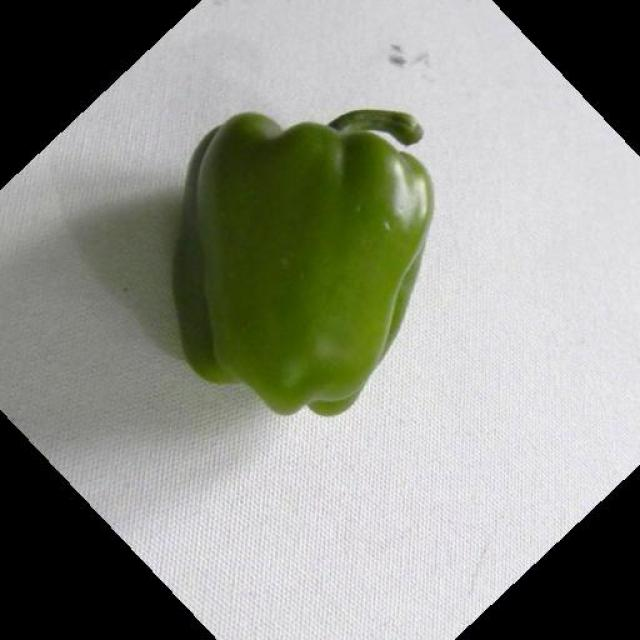Fresh_Capsicum: (176, 75, 437, 411)
